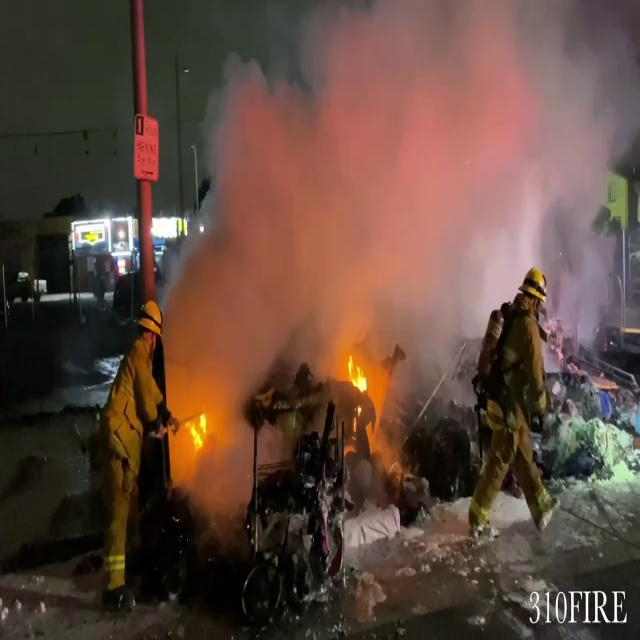Fire: (342, 349, 379, 423), (182, 400, 212, 460)
Smoke: (160, 1, 640, 426)
